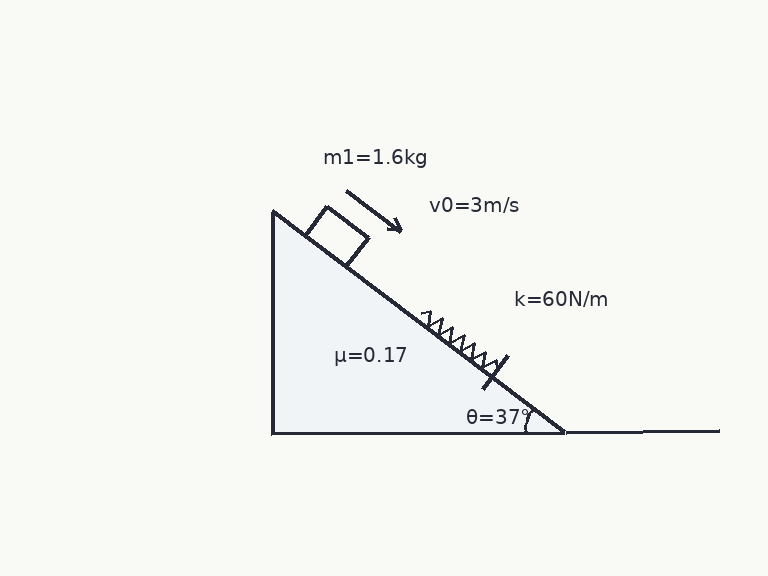block: (303, 204, 370, 269)
ramp: (270, 209, 567, 434)
spring: (419, 309, 499, 372)
